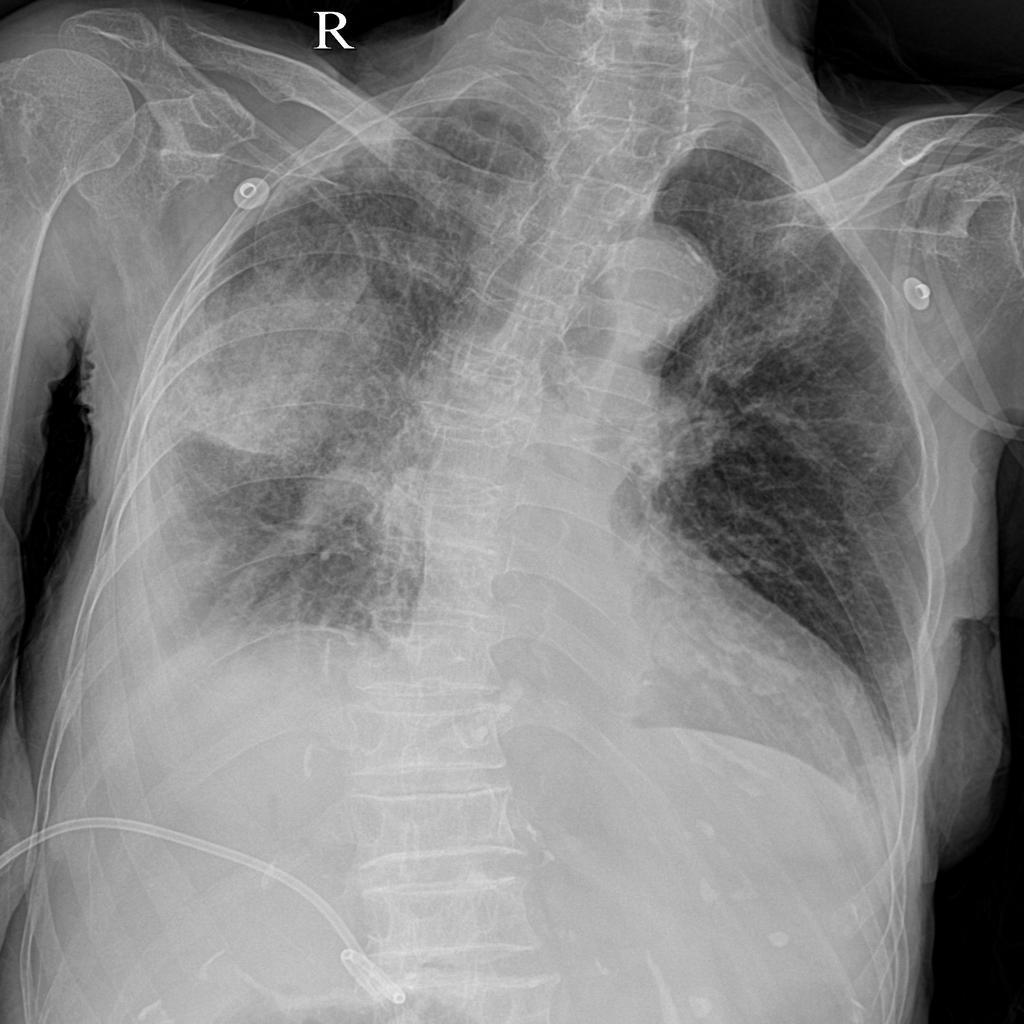Nodule: (145, 227, 424, 480)
